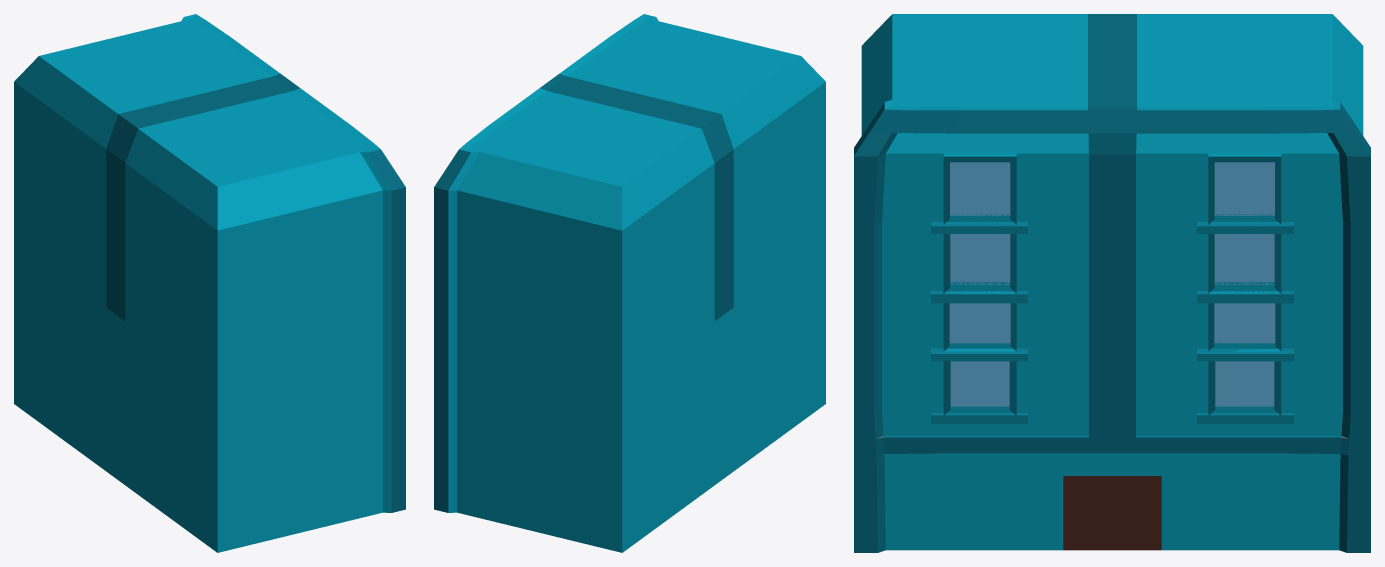
File: blue short building.fbx
The picture shows the model from 3 angles, left to right: view 1: azimuth 30°, elevation 25°; view 2: azimuth 150°, elevation 25°; view 3: azimuth 270°, elevation 25°; orthographic projection. The views are drawn at different scales.
Visible parts, largest first — view 1: Cube; view 2: Cube; view 3: Cube.
Part boxes in pixels (box(x1,y1,x2,y2)): Cube: box(14, 14, 405, 552); Cube: box(434, 14, 825, 552); Cube: box(854, 14, 1370, 552).
Bounding box in the file's own units: 3724 × 6291 × 6744.
